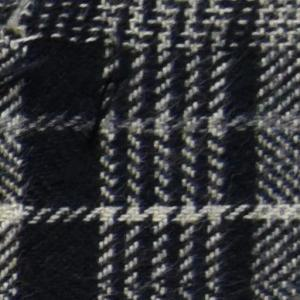Damage: (1, 1, 148, 102)
